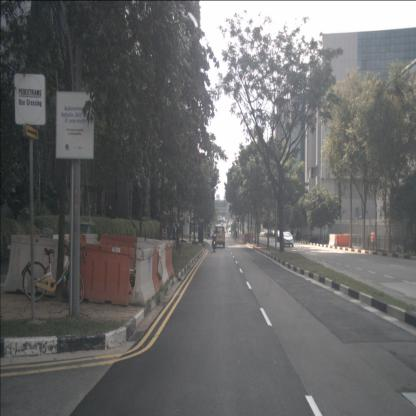human-pedestrian-adult: (155, 210, 159, 230), (172, 223, 176, 241), (195, 226, 198, 235)
movable_object-barrier: (3, 236, 68, 293), (83, 245, 129, 306), (129, 248, 156, 307), (152, 246, 164, 293), (100, 234, 137, 248), (159, 240, 170, 286), (72, 235, 98, 244), (334, 234, 350, 247), (328, 233, 336, 246), (244, 232, 254, 242), (237, 234, 246, 244)
vehicle-bicycle: (22, 244, 85, 306)
vehicle-car: (215, 226, 225, 248), (282, 232, 294, 247), (276, 230, 283, 243)
vehicle-motorcycle: (211, 230, 217, 252)
